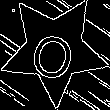O_N: (28, 19, 81, 81)
